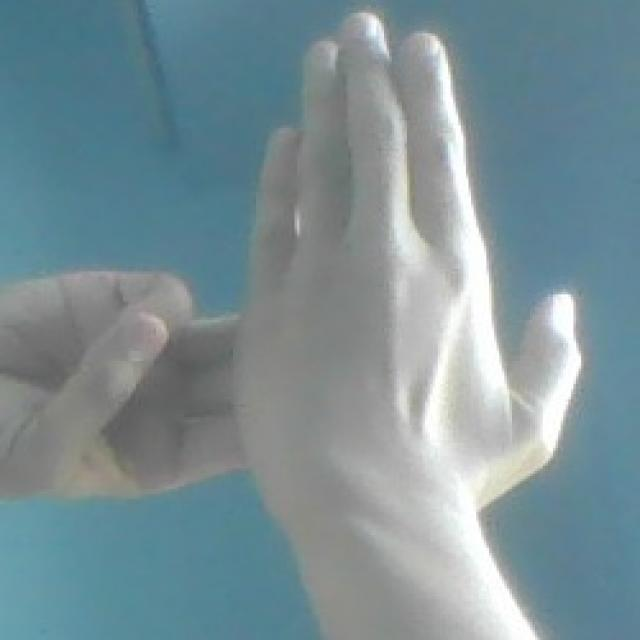Alphabet-M: (0, 7, 587, 574)
